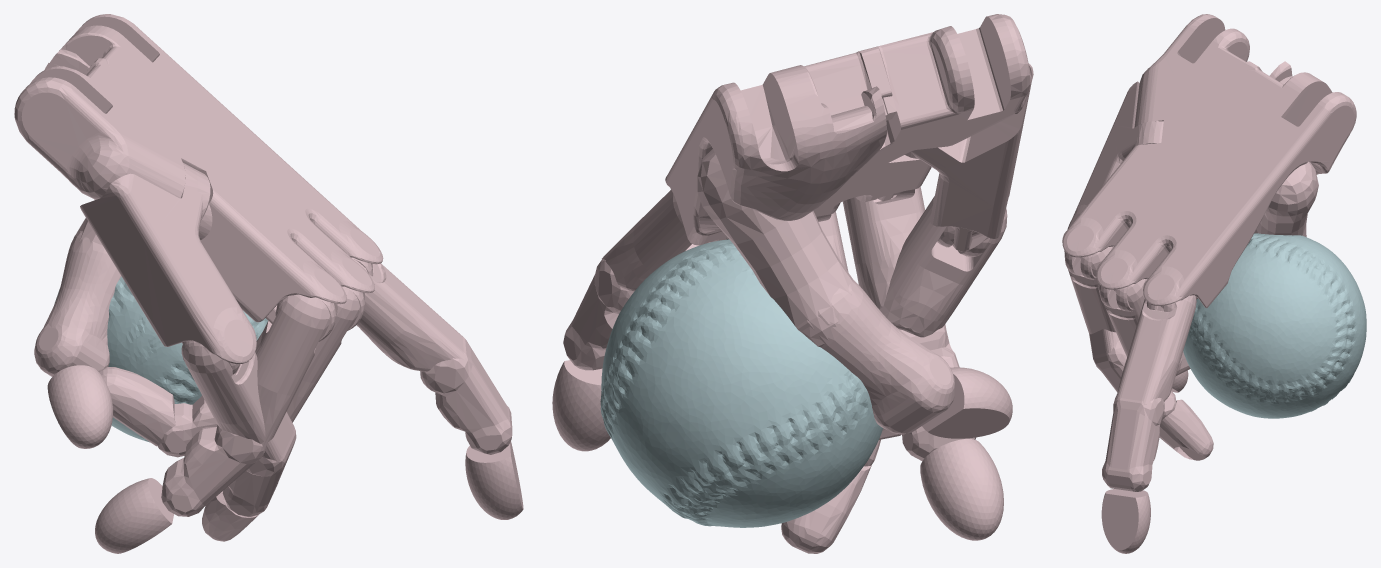
The model's file is grasp_1.glb.
3 renders of one model, left to right at view 1: azimuth 30°, elevation 25°; view 2: azimuth 150°, elevation 25°; view 3: azimuth 270°, elevation 25°, orthographic. The views are drawn at different scales.
Parts seen in each view (by area): view 1: world; view 2: world; view 3: world.
Part boxes in pixels (x1,y1,x2,y2): world: [14, 14, 523, 553]; world: [552, 14, 1033, 553]; world: [1062, 14, 1366, 553].
Bounding box in the file's own units: 0.1552 × 0.1639 × 0.1174.
